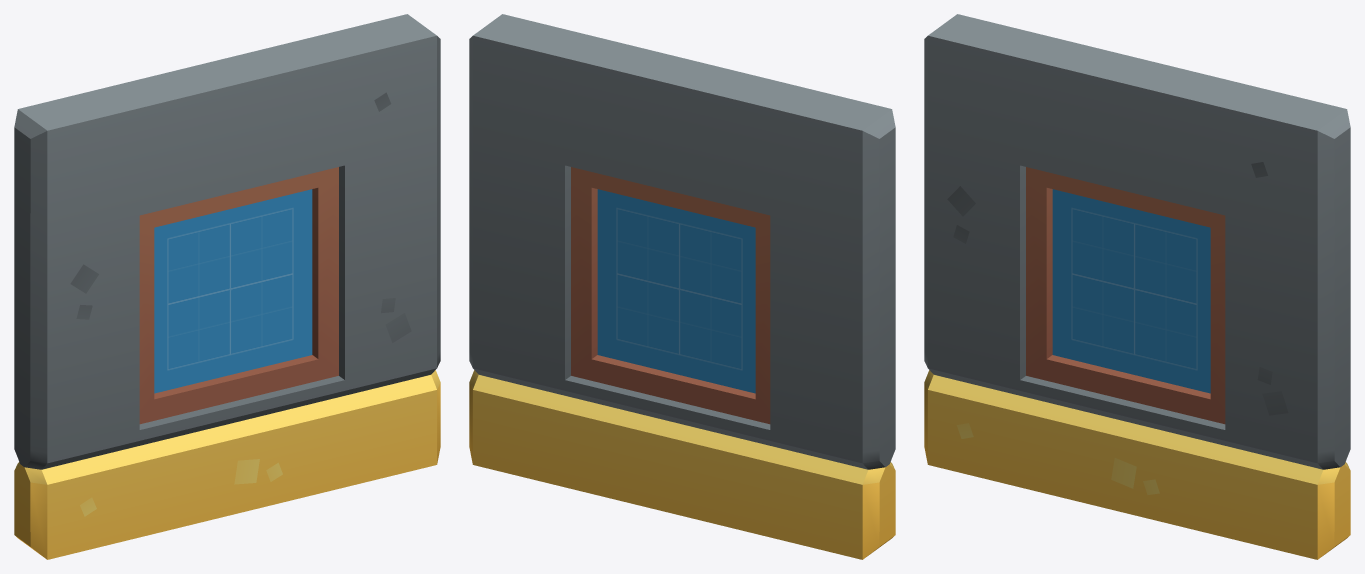
The model's file is Wall_window_closed.glb.
The picture shows the model from 3 angles, left to right: view 1: azimuth 30°, elevation 25°; view 2: azimuth 150°, elevation 25°; view 3: azimuth 330°, elevation 25°; orthographic projection.
Parts seen in each view (by area): view 1: Wall_Window_Closed; view 2: Wall_Window_Closed; view 3: Wall_Window_Closed.
Boxes of the visible parts, x1,y1,x2,y2 form: Wall_Window_Closed: [14, 14, 440, 559]; Wall_Window_Closed: [469, 14, 895, 559]; Wall_Window_Closed: [924, 14, 1350, 559].
Size of the model in its own units: 4 by 4 by 0.53.
1 material, 1 textured.
